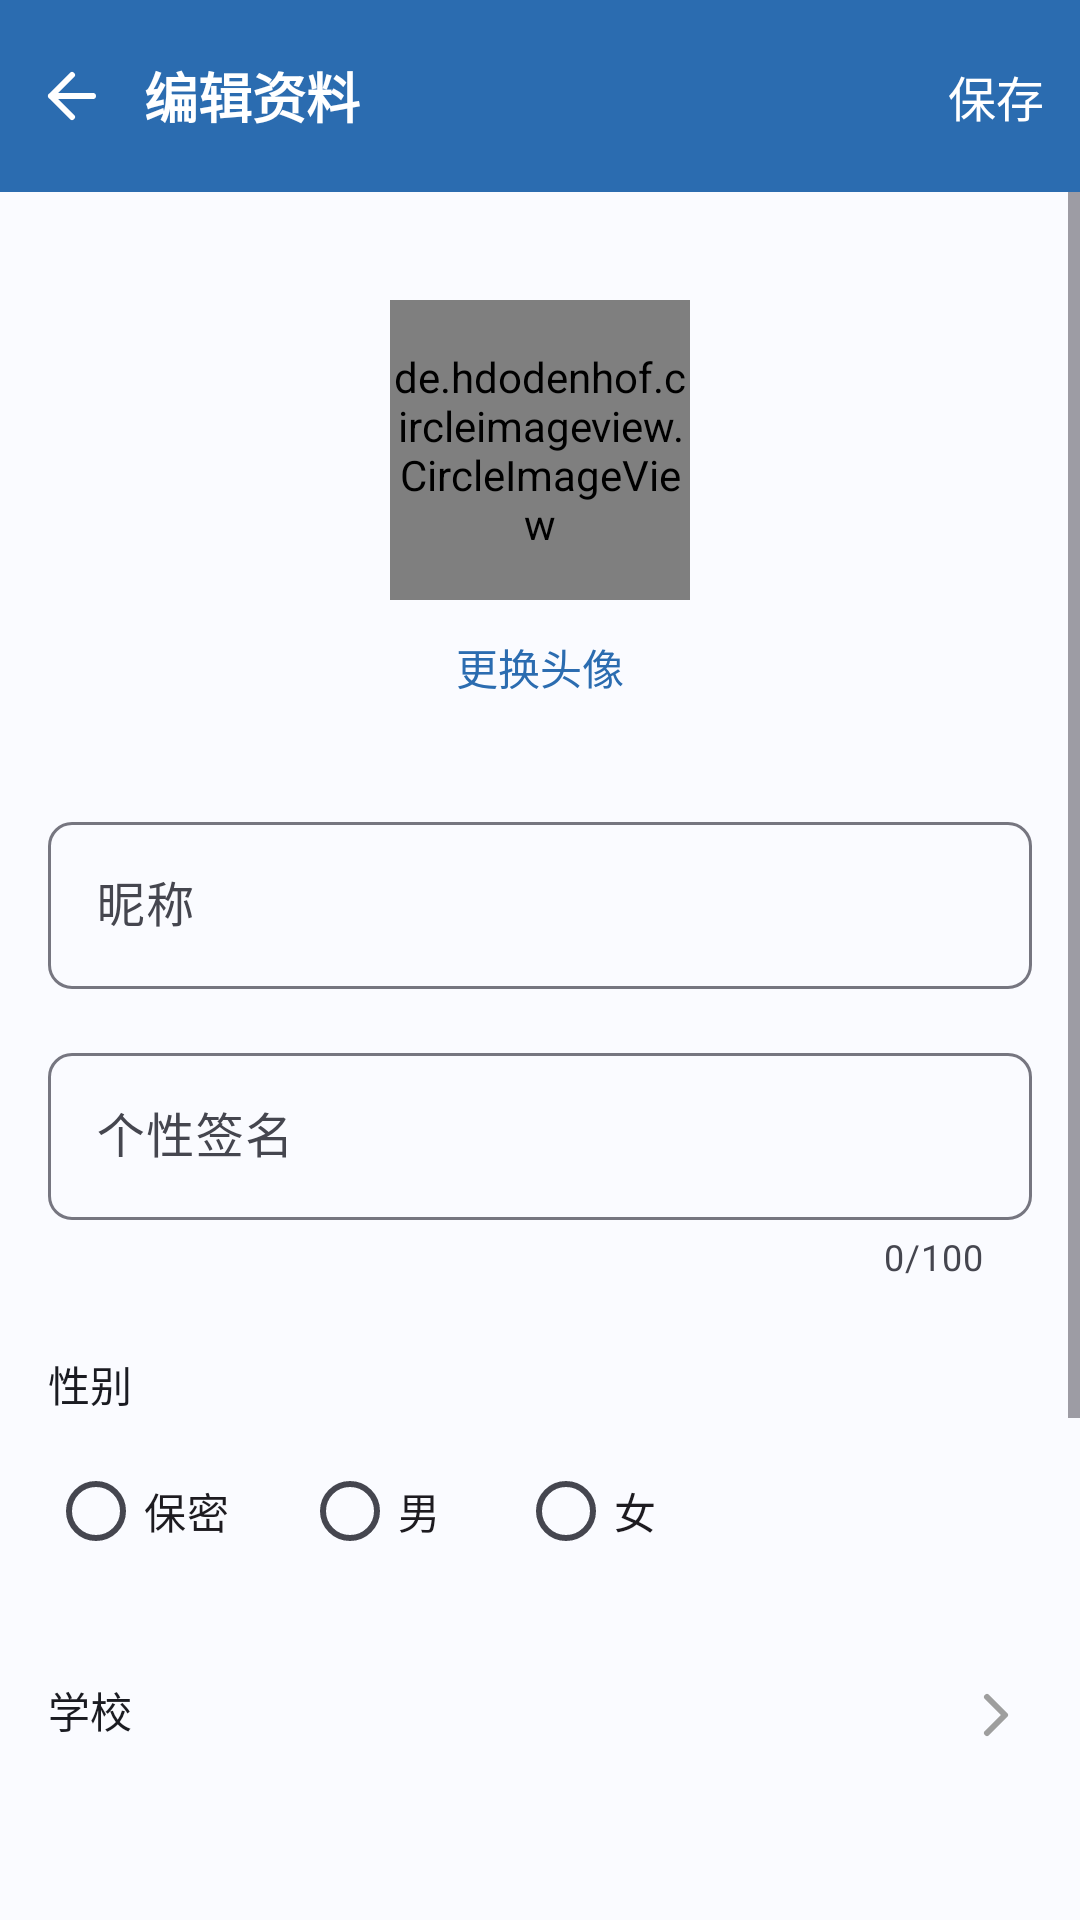

Where to tap for icons on this 1080×1920 app screen, as (x,y):
返回: (72,96)
